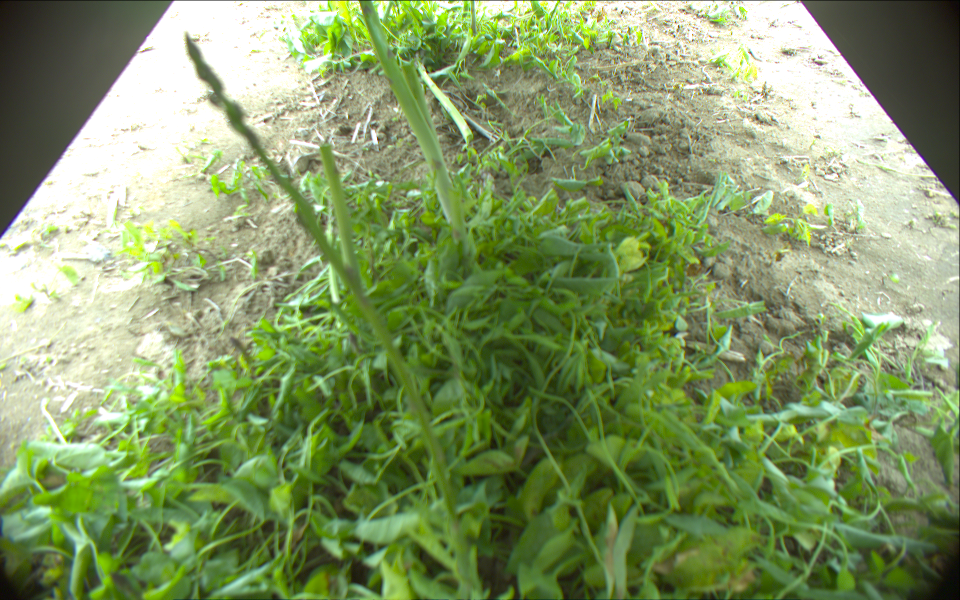aspa: (182, 24, 475, 598), (356, 1, 467, 232), (319, 141, 364, 286), (419, 60, 473, 140), (320, 200, 349, 327), (468, 1, 478, 36)
